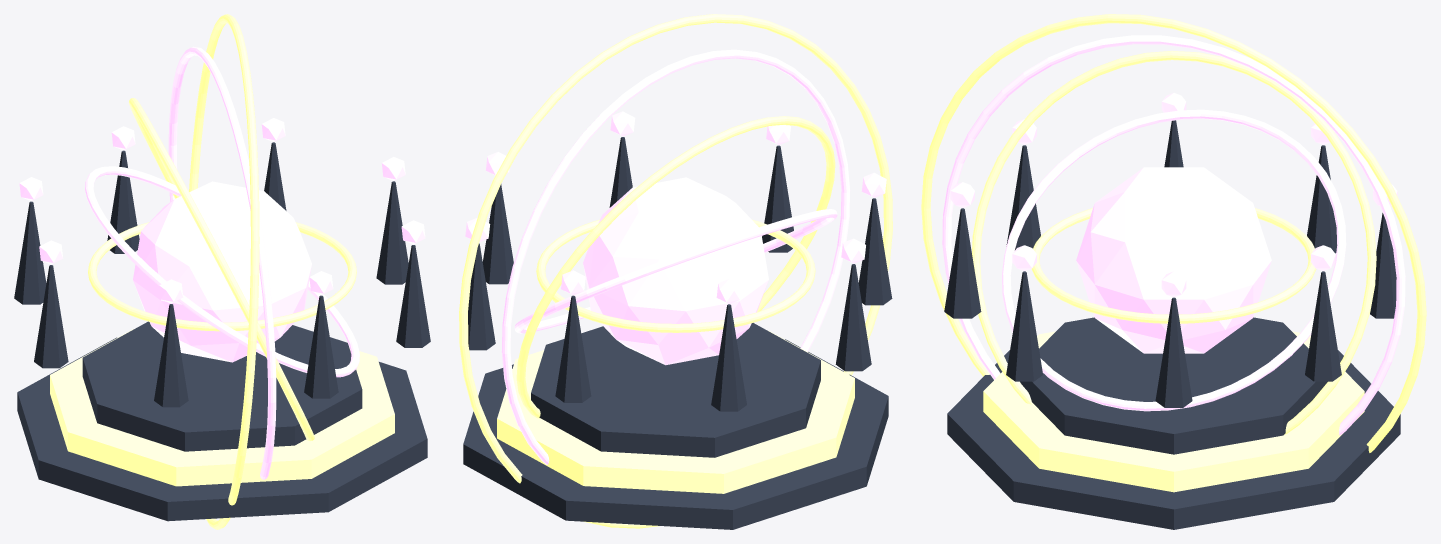
Rendered from gpu-blender-v36.glb.
3 views of the same model, side by side, from view 1: azimuth 30°, elevation 25°; view 2: azimuth 150°, elevation 25°; view 3: azimuth 270°, elevation 25° (orthographic). The views are drawn at different scales.
Visible parts, largest first — view 1: Cylinder.002, Cylinder, SovereignCore_ufo-sacred-geometry, Cylinder.001, Torus.004, Torus.003, Torus.001, Torus.002, Torus, Cone.005, Cone.004, Cone.006 (+5 smaller); view 2: Cylinder.002, SovereignCore_ufo-sacred-geometry, Cylinder, Cylinder.001, Torus.004, Torus.003, Torus.002, Torus.001, Torus, Cone.004, Cone.003, Cone.002 (+5 smaller); view 3: SovereignCore_ufo-sacred-geometry, Cylinder.002, Cylinder, Cylinder.001, Torus.004, Torus.003, Torus.002, Torus.001, Torus, Cone.006, Cone.001, Cone.007 (+5 smaller).
Part boxes in pixels (x1=…): Cylinder.002: x1=82, y1=321, x2=362, y2=451; Cylinder: x1=17, y1=337, x2=427, y2=521; SovereignCore_ufo-sacred-geometry: x1=133, y1=181, x2=311, y2=362; Cylinder.001: x1=50, y1=329, x2=394, y2=486; Torus.004: x1=189, y1=14, x2=259, y2=529; Torus.003: x1=168, y1=46, x2=276, y2=479; Torus.001: x1=85, y1=166, x2=359, y2=377; Torus.002: x1=129, y1=98, x2=314, y2=440; Torus: x1=88, y1=222, x2=356, y2=331; Cone.005: x1=154, y1=304, x2=188, y2=407; Cone.004: x1=34, y1=265, x2=68, y2=368; Cone.006: x1=304, y1=295, x2=338, y2=398; Cylinder.002: x1=531, y1=323, x2=820, y2=457; SovereignCore_ufo-sacred-geometry: x1=583, y1=177, x2=768, y2=365; Cylinder: x1=463, y1=339, x2=888, y2=529; Cylinder.001: x1=497, y1=330, x2=854, y2=493; Torus.004: x1=459, y1=14, x2=892, y2=528; Torus.003: x1=501, y1=49, x2=850, y2=464; Torus.002: x1=516, y1=116, x2=835, y2=418; Torus.001: x1=514, y1=209, x2=837, y2=333; Torus: x1=536, y1=219, x2=815, y2=332; Cone.004: x1=835, y1=264, x2=871, y2=371; Cone.003: x1=711, y1=304, x2=746, y2=411; Cone.002: x1=555, y1=295, x2=591, y2=402; SovereignCore_ufo-sacred-geometry: x1=1076, y1=167, x2=1271, y2=353; Cylinder.002: x1=1020, y1=317, x2=1327, y2=454; Cylinder: x1=947, y1=350, x2=1400, y2=529; Cylinder.001: x1=983, y1=331, x2=1364, y2=492; Torus.004: x1=921, y1=14, x2=1426, y2=452; Torus.003: x1=942, y1=35, x2=1405, y2=435; Torus.002: x1=972, y1=50, x2=1376, y2=434; Torus.001: x1=1001, y1=109, x2=1346, y2=411; Torus: x1=1031, y1=208, x2=1316, y2=323; Cone.006: x1=944, y1=208, x2=981, y2=318; Cone.001: x1=1305, y1=271, x2=1341, y2=381; Cone.007: x1=1006, y1=271, x2=1042, y2=381.
Bounding box in the file's own units: 4.41 × 5.33 × 4.9.
